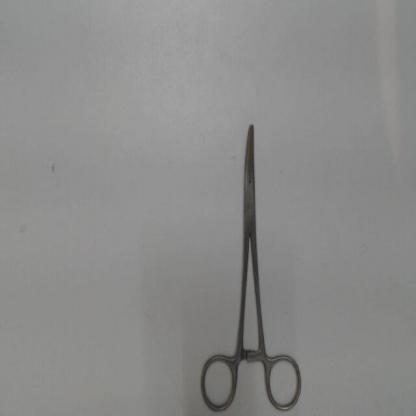Crile Artery Forceps: (193, 115, 306, 415)
